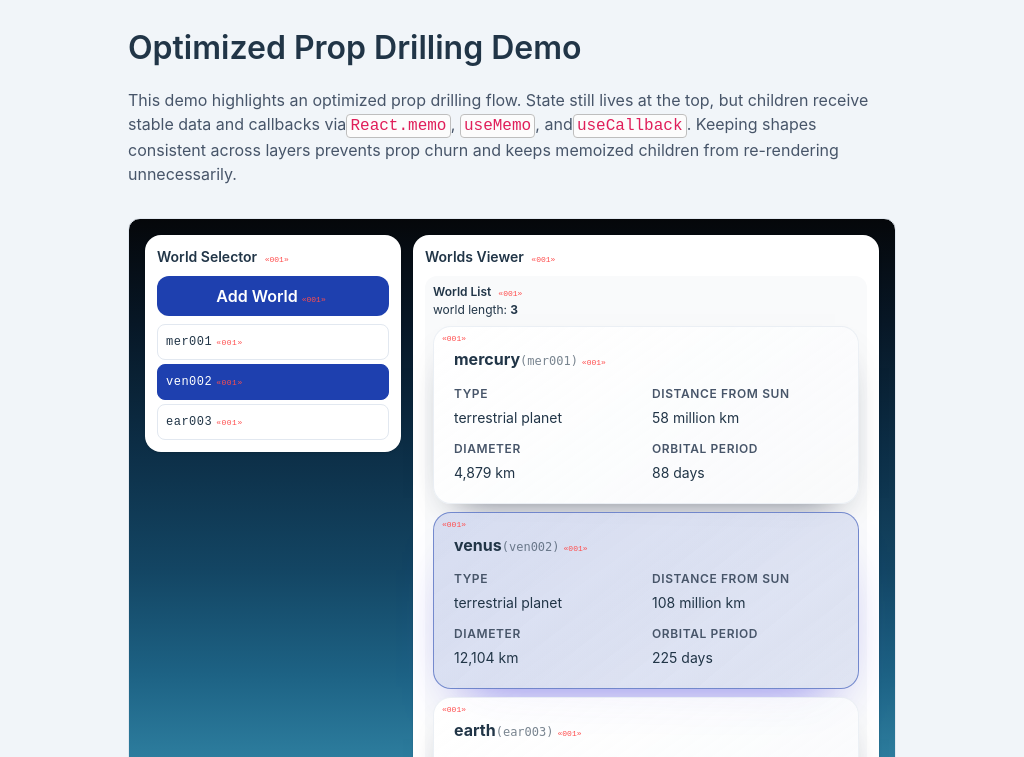
Test: PropDrillingRenderDemo › should update world ID button render token when clicked
Check: the text "World Selector «001»" is shown, box [157,248,289,265]
Click the button "mer001«001»" at (273, 342), box [157,324,389,360]
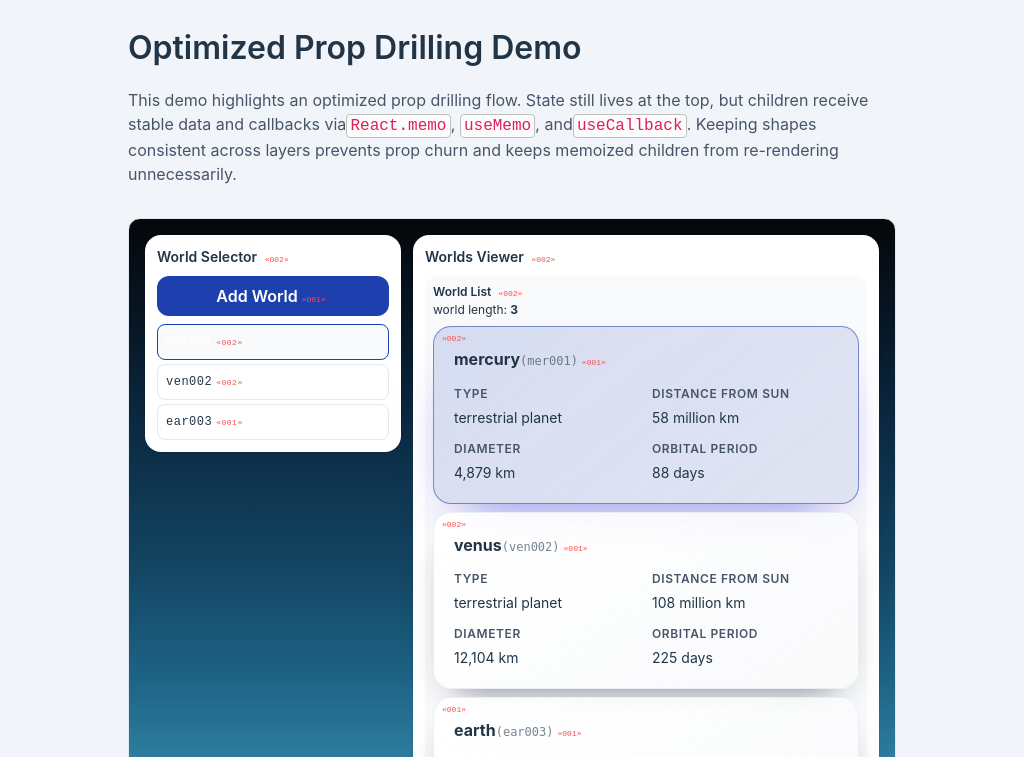
Check: the button "mer001«002»" is shown, box [157,324,389,360]
